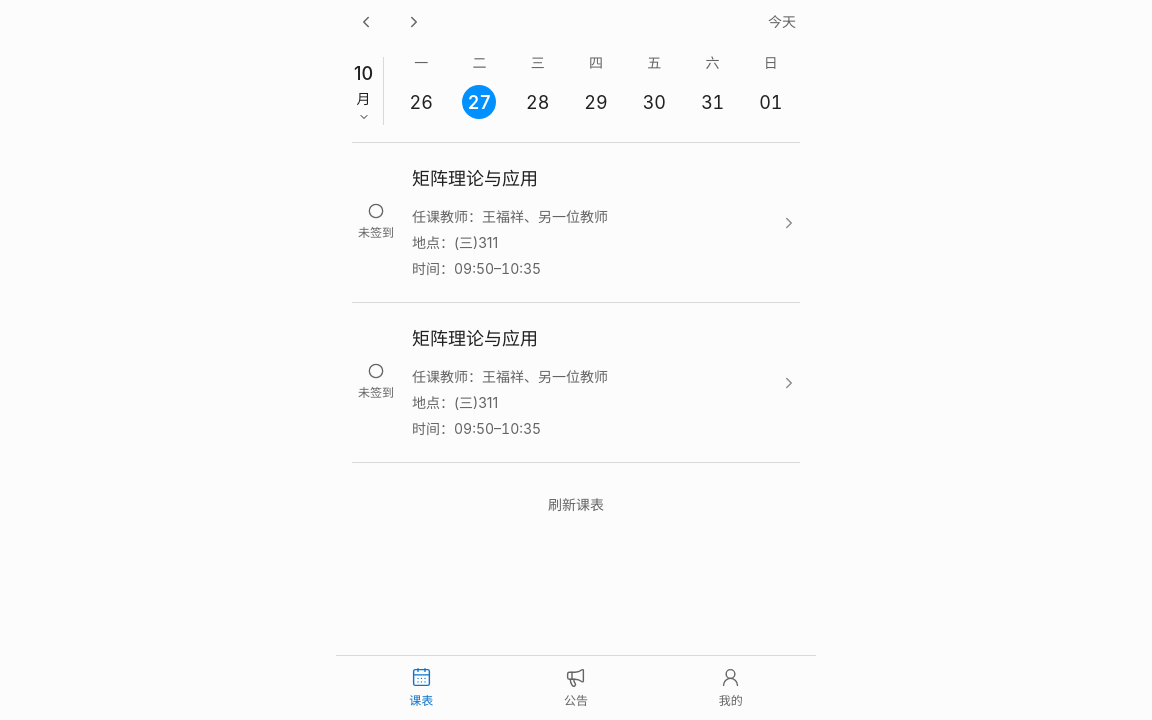
it: mobile routes and course interactions › signed=false reserved=false › renders the detail status and decorative icon
Click the 1st button "未签到 矩阵理论与应用 任课教师：王福祥、另一位教师 地点：(三)311 时间：09:50–10:35": (576, 223) [352,143,800,302]
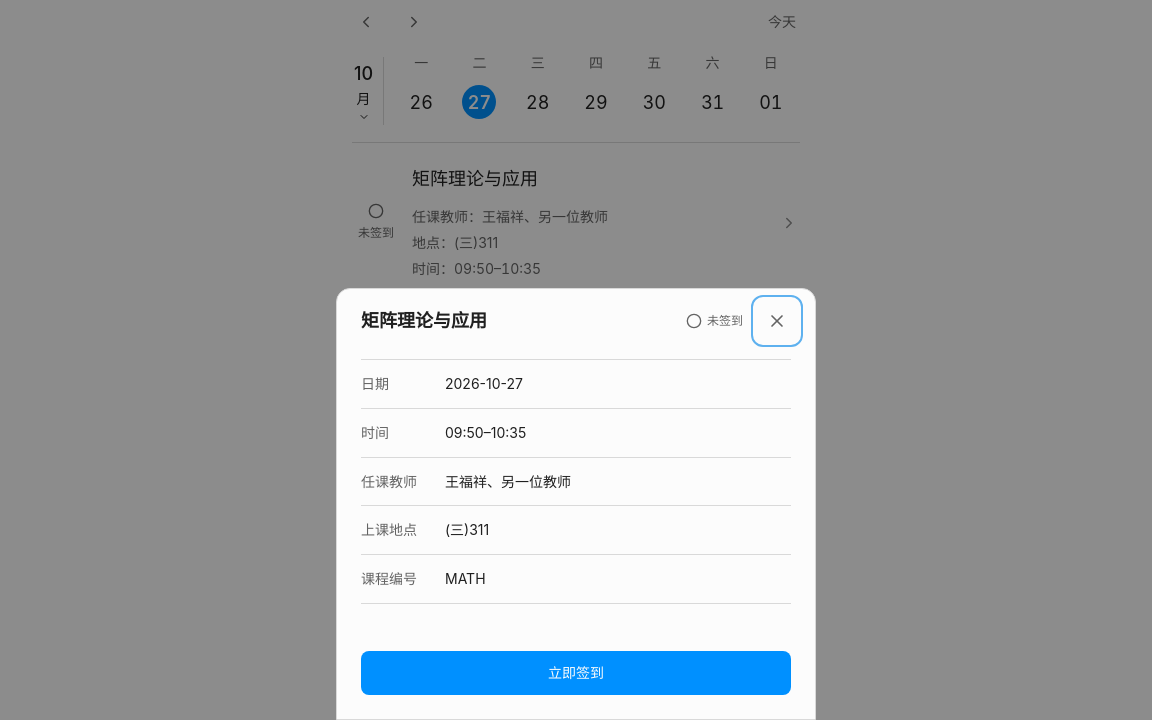
Result: the element with class "detail-status" reads "未签到" at [707,313,743,328]
Result: the button "立即签到" is enabled at [361,651,791,695]
